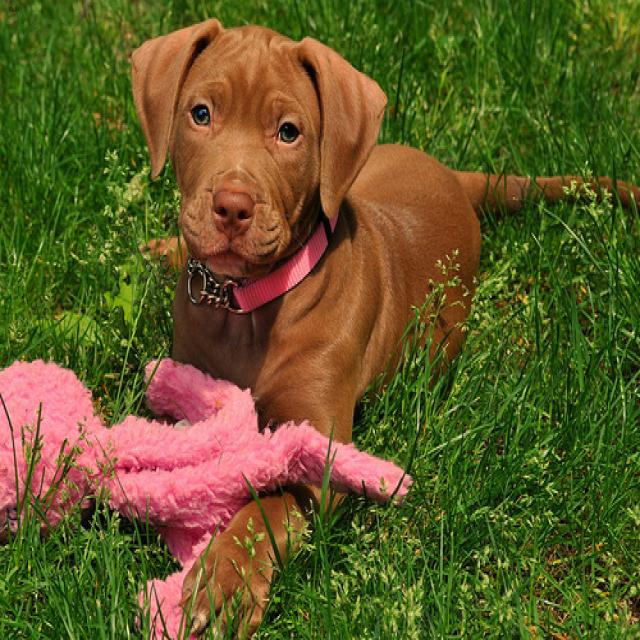dog-american_pit_bull_terrier: (124, 10, 637, 452)
